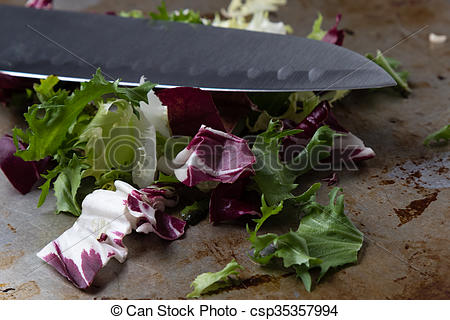chopped lettuce: (41, 90, 365, 263)
